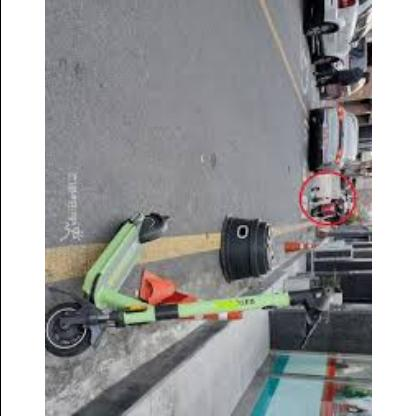bike: (45, 212, 339, 359)
